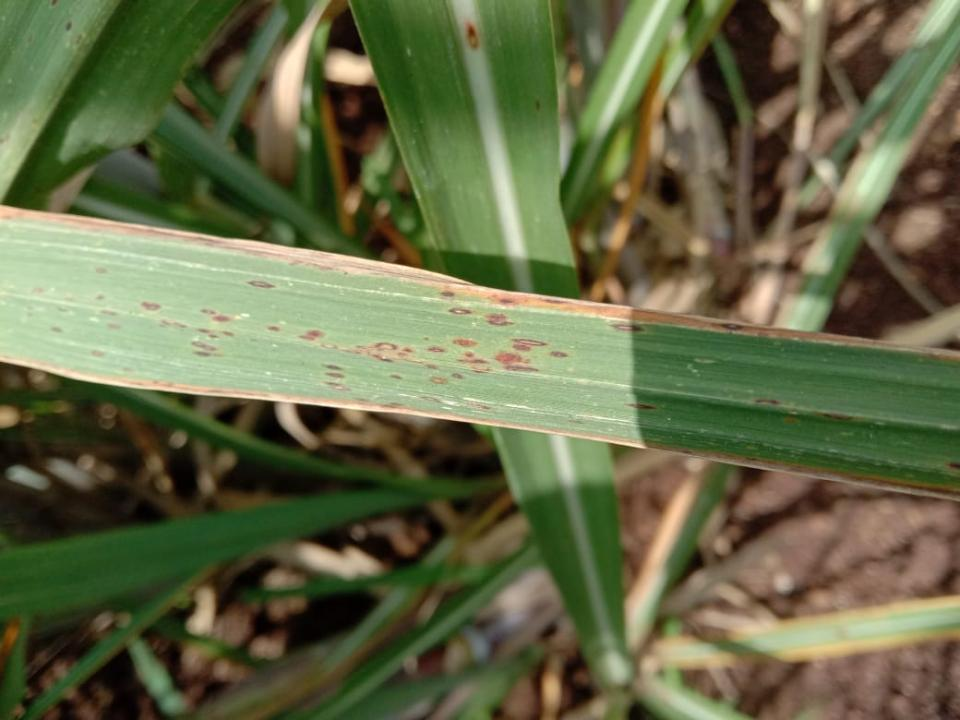Rust: (319, 341, 398, 363), (159, 317, 188, 333), (455, 351, 489, 364), (495, 353, 531, 365), (485, 313, 515, 327), (140, 301, 166, 316), (296, 329, 325, 342), (189, 340, 219, 352), (820, 412, 856, 422), (245, 279, 277, 290), (324, 380, 353, 391), (512, 339, 549, 347), (196, 328, 220, 340), (611, 324, 646, 332), (624, 403, 660, 410), (446, 307, 473, 316), (505, 366, 539, 373), (753, 398, 782, 406), (428, 376, 451, 386), (719, 323, 747, 331), (320, 362, 344, 371), (323, 371, 348, 379), (454, 339, 478, 347), (192, 350, 213, 359), (379, 402, 406, 409), (213, 314, 231, 323), (264, 324, 282, 333), (201, 307, 217, 317), (99, 309, 119, 317), (945, 461, 959, 472), (541, 300, 570, 305), (513, 344, 531, 352), (450, 372, 467, 380), (421, 396, 443, 402), (471, 367, 491, 373), (550, 351, 570, 357), (387, 373, 403, 380), (427, 347, 445, 353), (90, 349, 105, 356), (106, 323, 121, 330), (50, 326, 64, 333), (426, 363, 440, 370), (355, 396, 371, 402), (31, 288, 45, 294), (56, 306, 68, 313), (499, 299, 515, 304), (222, 331, 235, 337), (96, 267, 107, 274), (95, 294, 105, 301), (441, 292, 455, 297), (396, 352, 409, 357), (402, 348, 413, 352)
Yellow: (0, 205, 959, 357), (0, 353, 959, 502)
